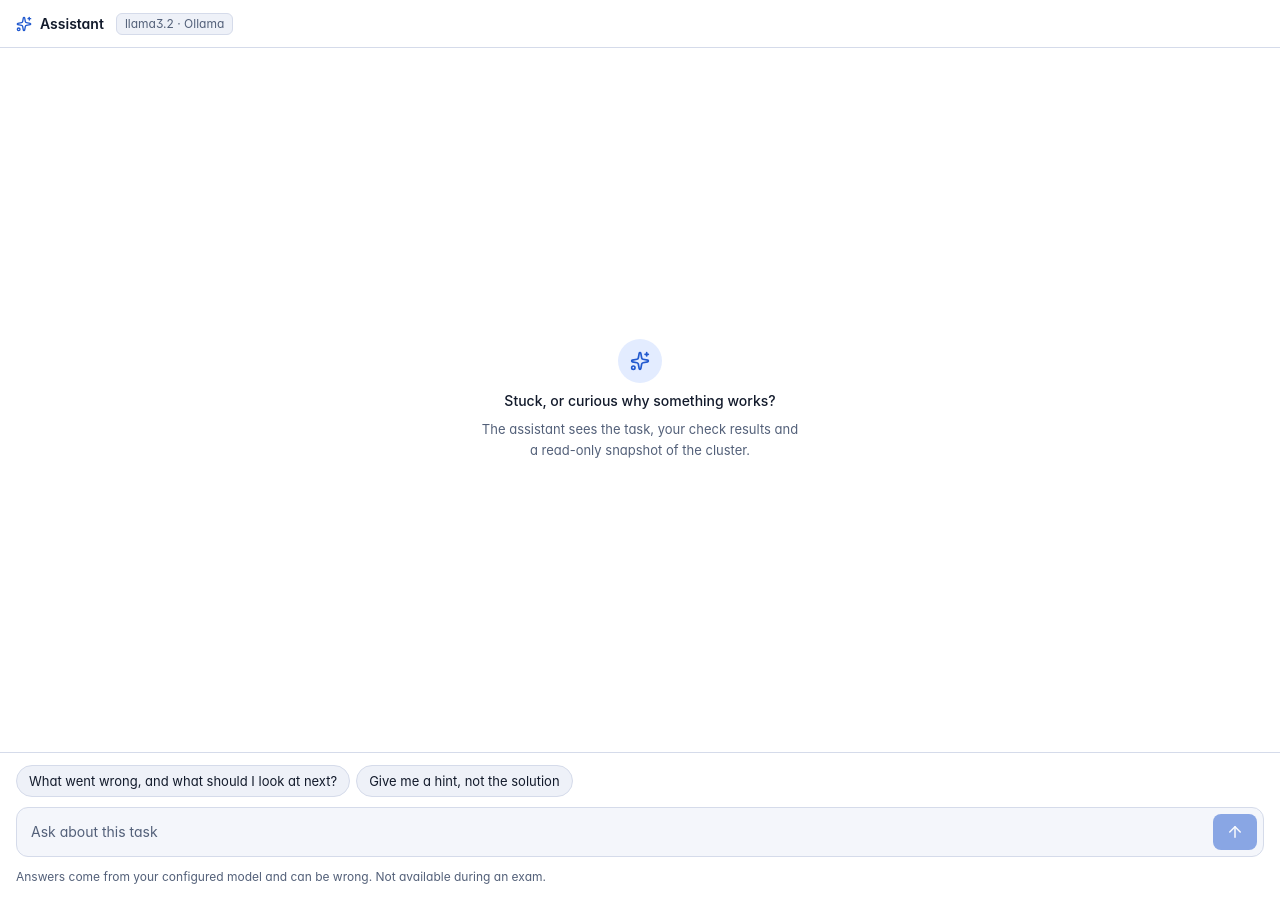
Test: AssistantPanel › suggests nothing while an answer arrives
Type "x" into the text box named "Ask the assistant" at [618, 832], box left=31, top=814, right=1205, bottom=850
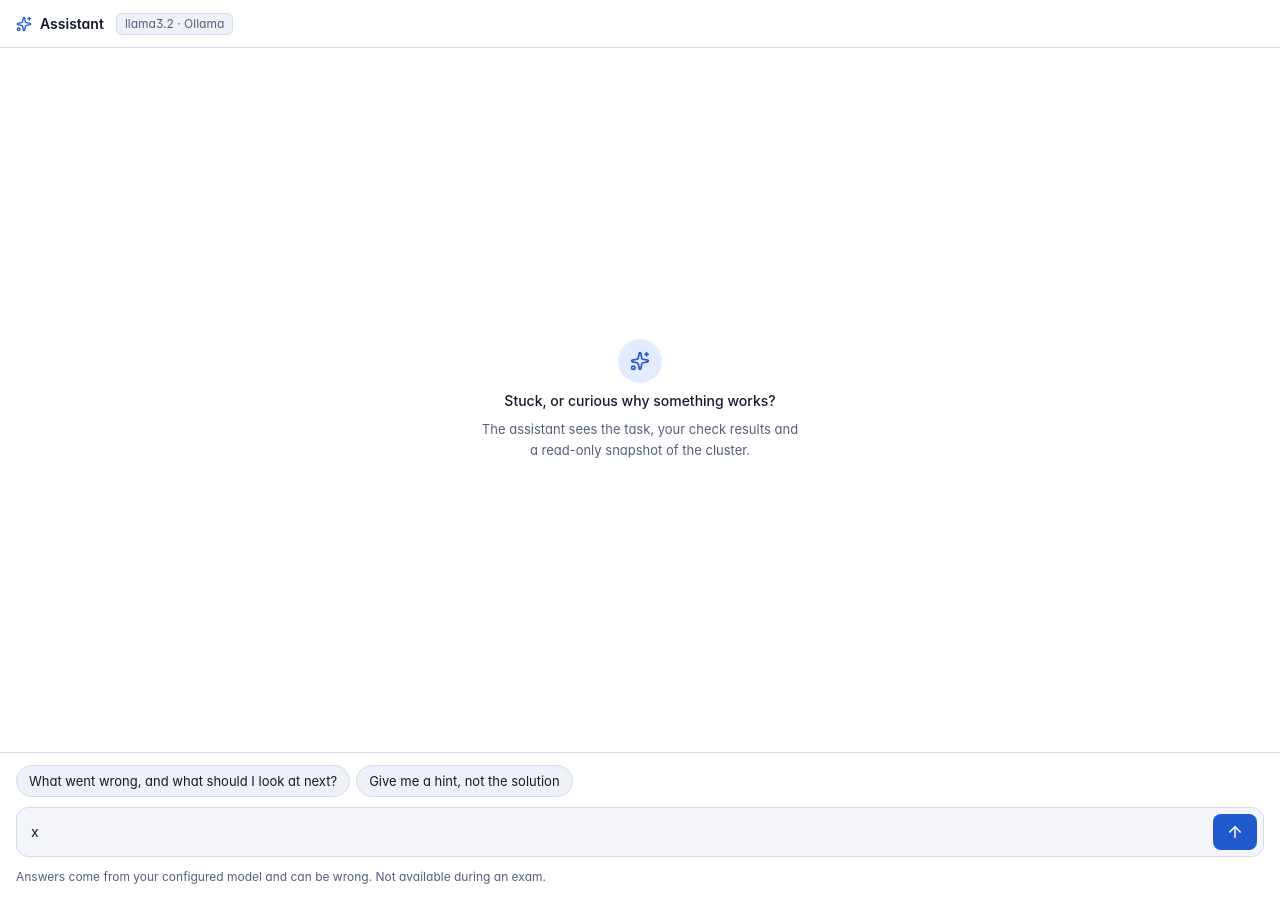
Press Enter in the text box named "Ask the assistant", box left=31, top=814, right=1205, bottom=850
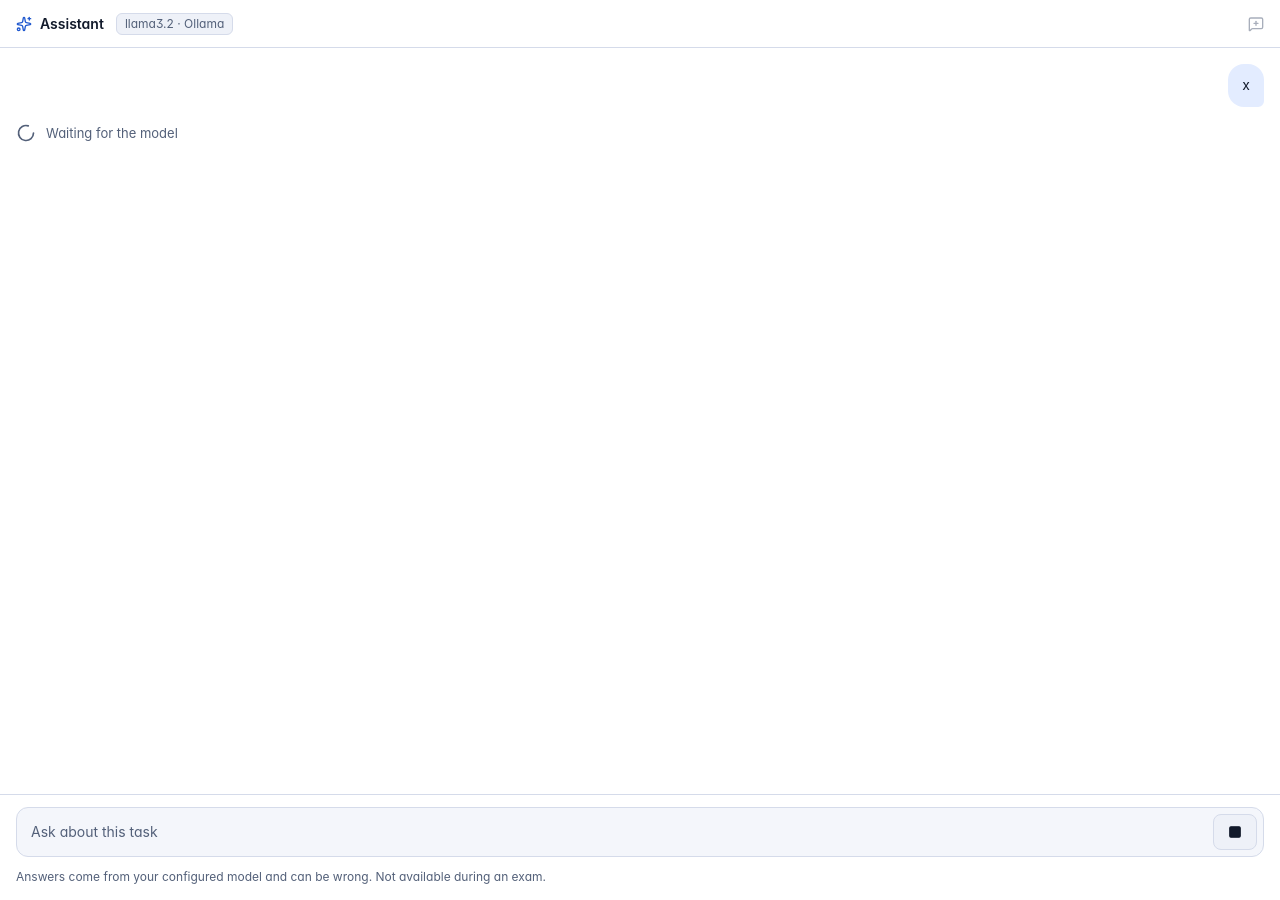
Now the button named "Stop" is shown, box left=1213, top=814, right=1257, bottom=850
